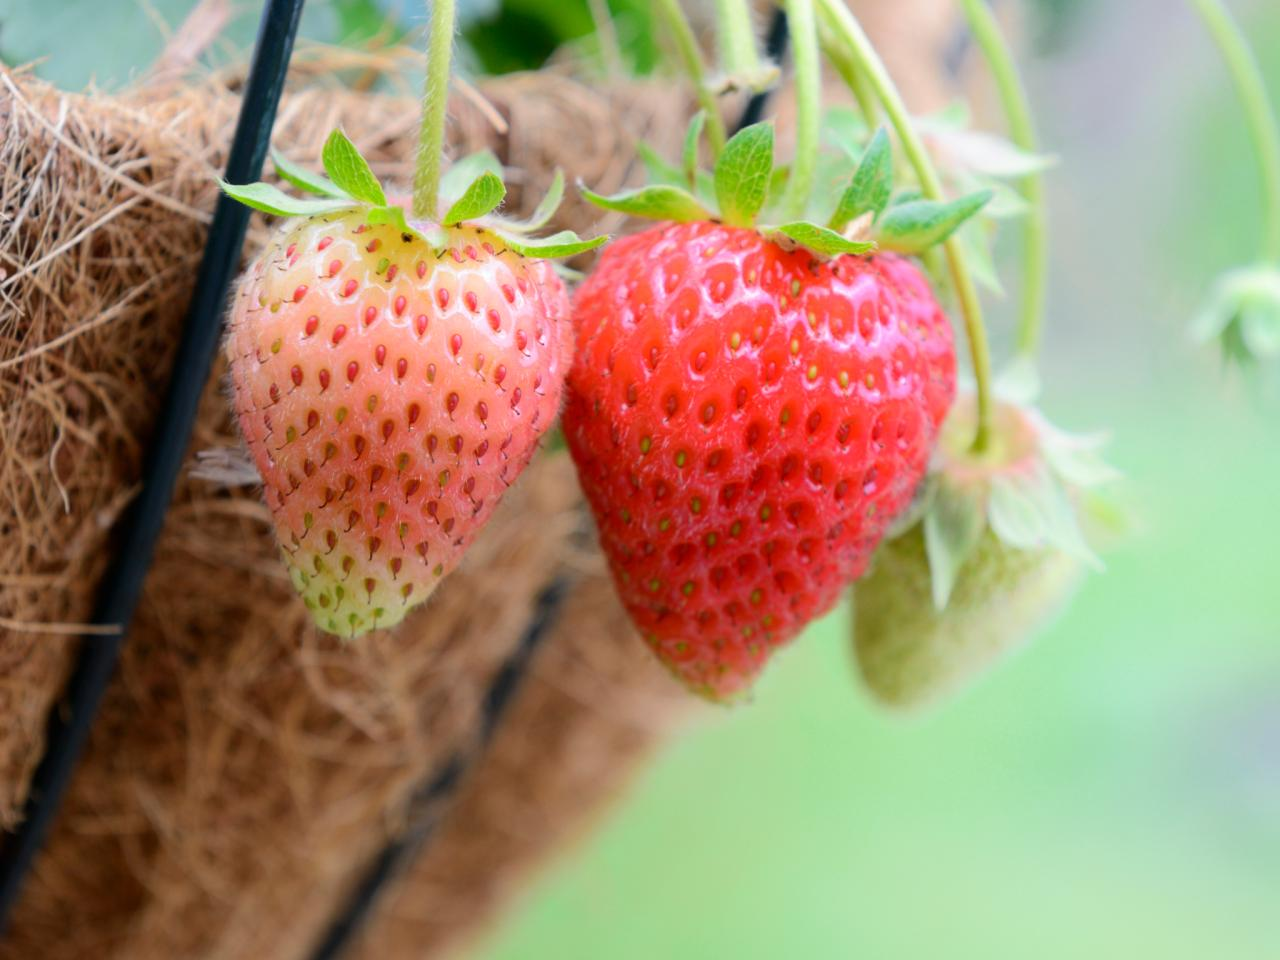ripe: (567, 217, 962, 711)
unripe: (219, 196, 574, 644)
